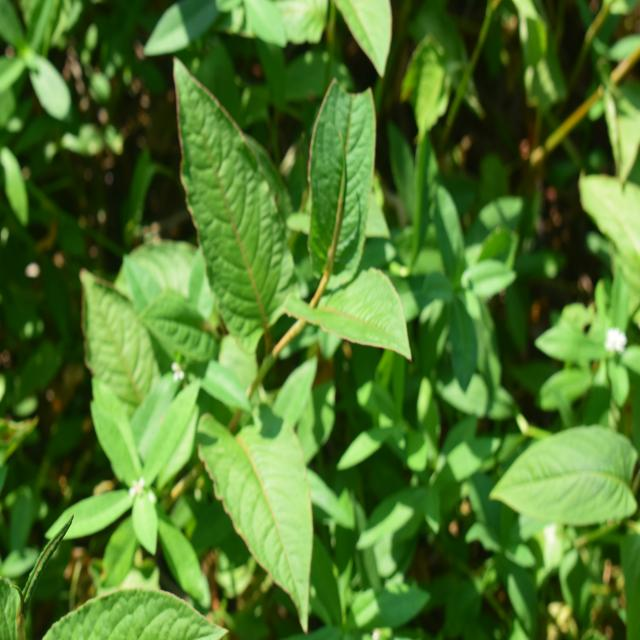Chinese_knotweed: (163, 49, 405, 360), (197, 392, 337, 605)
